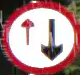Two way: (2, 2, 78, 71)
